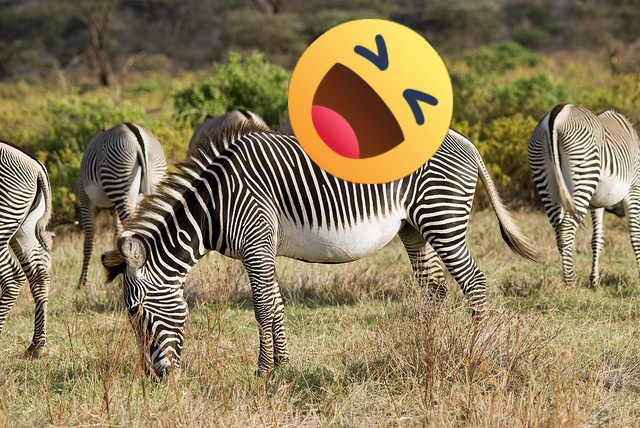haha: (288, 19, 453, 184)
